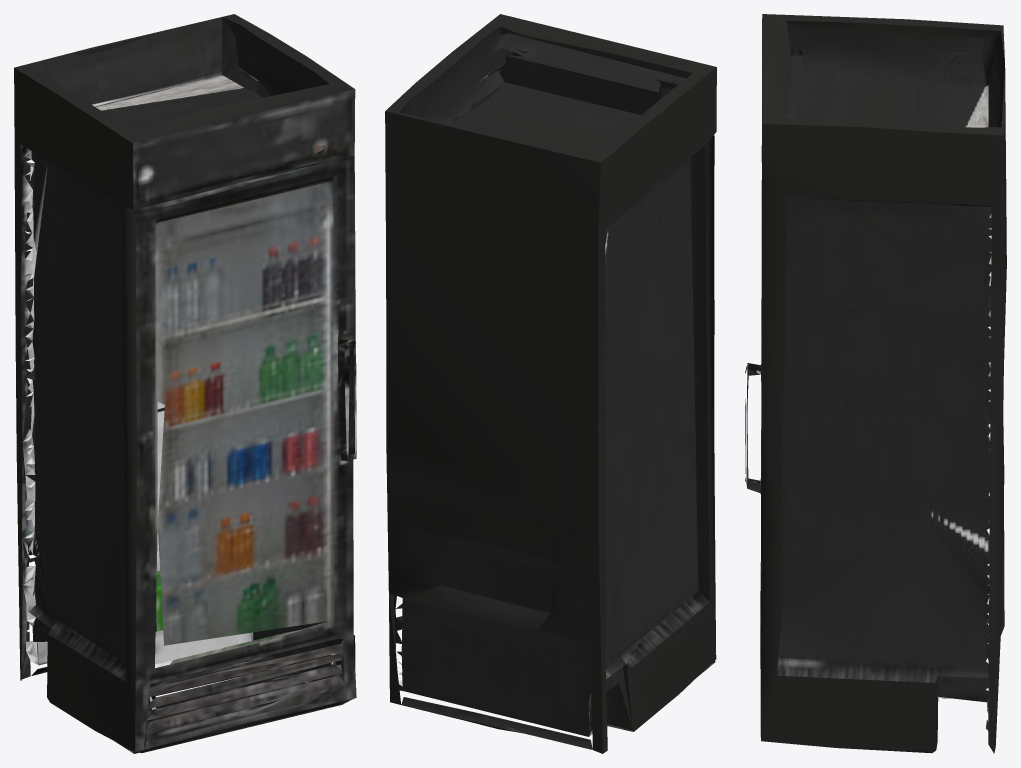
Rendered from shop-cooler.glb.
3 views of the same model, side by side, from view 1: azimuth 30°, elevation 25°; view 2: azimuth 150°, elevation 25°; view 3: azimuth 270°, elevation 25° (orthographic). The views are drawn at different scales.
Parts seen in each view (by area): view 1: shopCooler; view 2: shopCooler; view 3: shopCooler.
Part boxes in pixels (x1,y1,x2,y2): shopCooler: (14,14,356,753); shopCooler: (385,14,716,753); shopCooler: (745,14,1006,753).
Bounding box in the file's own units: 0.75 × 2 × 0.75.
Materials: 1 (1 with a texture image).
